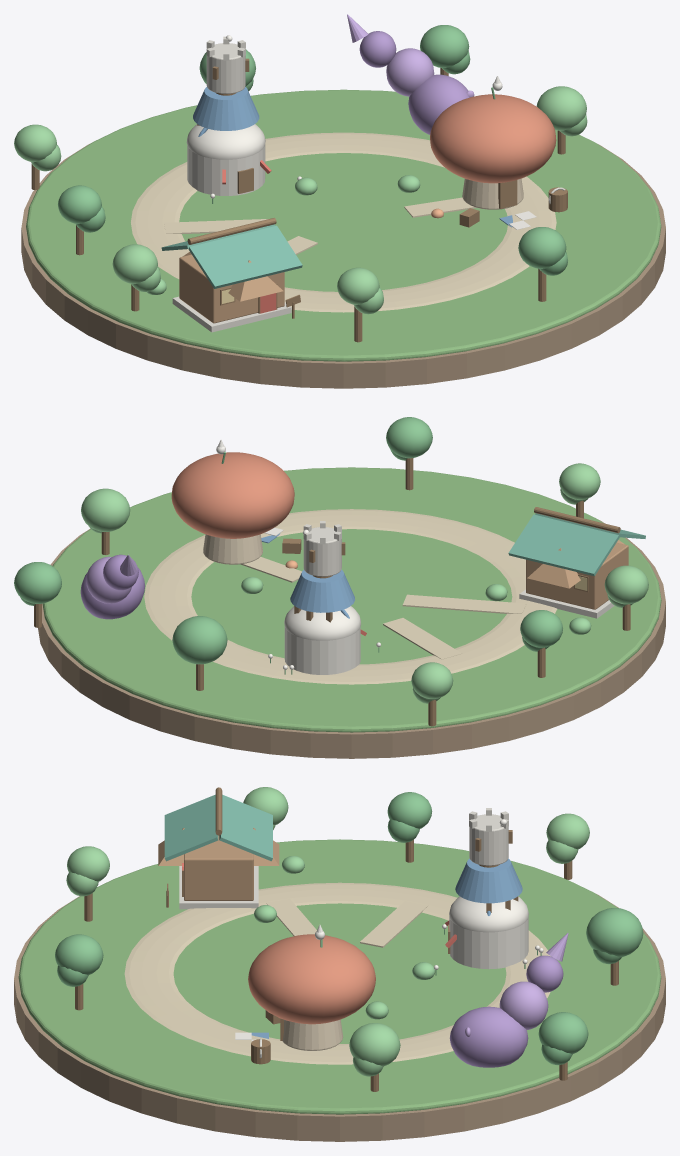
The model's file is village_core.glb.
3 views of the same model, one above another, from view 1: azimuth 30°, elevation 25°; view 2: azimuth 150°, elevation 25°; view 3: azimuth 270°, elevation 25° (orthographic). The views are drawn at different scales.
Visible parts, largest first — view 1: terrain_grass, terrain_dirt, path_ring, mushroom_cap, cottage_roof_l, cottage_wall, tower_pot, tower_cauldron, tower_pot_shoulder, purple_b1, purple_b2, tower_stone (+14 smaller); view 2: terrain_grass, terrain_dirt, path_ring, mushroom_cap, cottage_roof_r, tower_pot, cottage_wall, tree_crown_6, tower_cauldron, tower_pot_shoulder, tree_crown_3, tree_crown_4 (+16 smaller); view 3: terrain_grass, terrain_dirt, path_ring, mushroom_cap, cottage_wall, purple_b1, tower_pot, cottage_roof_l, cottage_roof_r, tower_cauldron, tree_crown_6, tower_pot_shoulder (+17 smaller).
Part boxes in pixels (x1=…): terrain_grass: x1=26, y1=89, x2=661, y2=361; terrain_dirt: x1=21, y1=144, x2=665, y2=388; path_ring: x1=131, y1=132, x2=556, y2=312; mushroom_cap: x1=430, y1=94, x2=556, y2=183; cottage_roof_l: x1=188, y1=225, x2=302, y2=288; cottage_wall: x1=179, y1=254, x2=284, y2=323; tower_pot: x1=187, y1=145, x2=265, y2=195; tower_cauldron: x1=193, y1=87, x2=259, y2=130; tower_pot_shoulder: x1=186, y1=124, x2=265, y2=159; purple_b1: x1=408, y1=74, x2=469, y2=134; purple_b2: x1=386, y1=48, x2=434, y2=96; tower_stone: x1=206, y1=43, x2=245, y2=93; terrain_grass: x1=42, y1=467, x2=661, y2=732; terrain_dirt: x1=38, y1=519, x2=665, y2=758; path_ring: x1=144, y1=509, x2=556, y2=684; mushroom_cap: x1=171, y1=452, x2=294, y2=538; cottage_roof_r: x1=508, y1=514, x2=619, y2=576; tower_pot: x1=284, y1=626, x2=360, y2=674; cottage_wall: x1=526, y1=542, x2=628, y2=609; tree_crown_6: x1=172, y1=616, x2=227, y2=664; tower_cauldron: x1=290, y1=569, x2=354, y2=612; tower_pot_shoulder: x1=284, y1=606, x2=361, y2=640; tree_crown_3: x1=81, y1=488, x2=130, y2=531; tree_crown_4: x1=14, y1=562, x2=61, y2=603; terrain_grass: x1=18, y1=839, x2=661, y2=1114; terrain_dirt: x1=14, y1=894, x2=665, y2=1141; path_ring: x1=124, y1=882, x2=550, y2=1064; mushroom_cap: x1=248, y1=934, x2=375, y2=1024; cottage_wall: x1=184, y1=835, x2=253, y2=900; purple_b1: x1=449, y1=1006, x2=528, y2=1067; tower_pot: x1=449, y1=916, x2=528, y2=969; cottage_roof_l: x1=164, y1=794, x2=218, y2=861; cottage_roof_r: x1=219, y1=794, x2=272, y2=861; tower_cauldron: x1=455, y1=858, x2=522, y2=903; tree_crown_6: x1=586, y1=908, x2=643, y2=957; tower_pot_shoulder: x1=449, y1=896, x2=528, y2=932.
Size of the model in its own units: 28 by 7.96 by 28.
